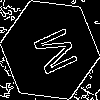M: (25, 25, 79, 82)
